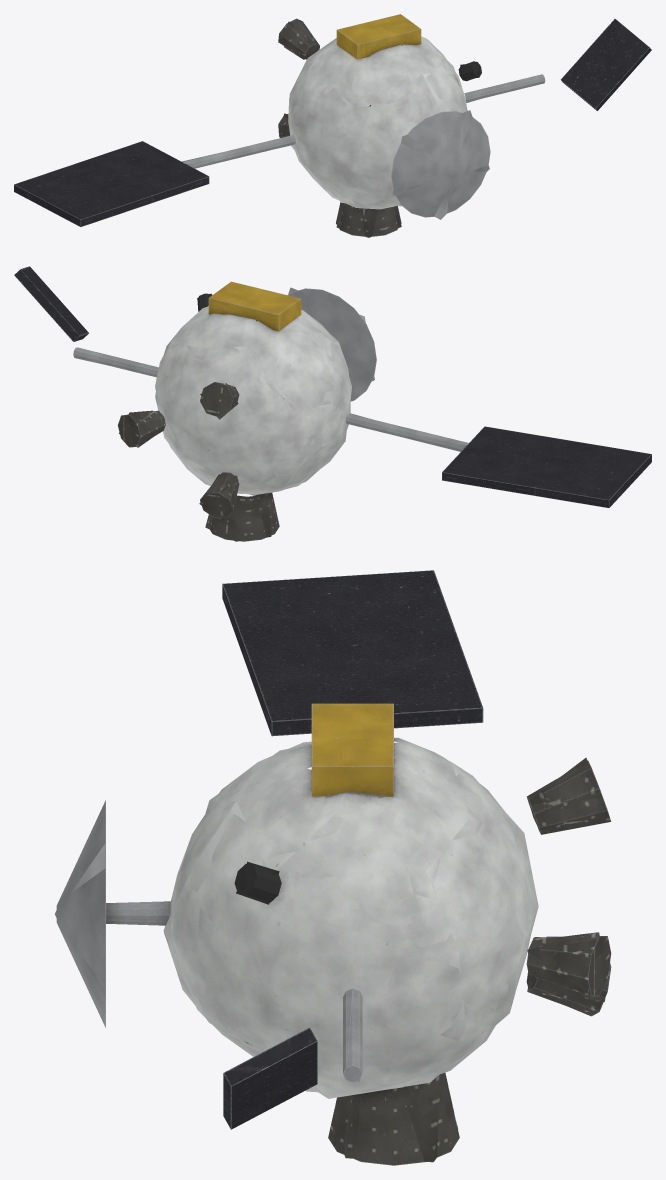
The model's file is sd_prop_probe.glb.
The picture shows the model from 3 angles, top to bottom: view 1: azimuth 30°, elevation 25°; view 2: azimuth 150°, elevation 25°; view 3: azimuth 270°, elevation 25°; orthographic projection. The views are drawn at different scales.
Visible parts, largest first — view 1: LOD0_body, LOD1_body; view 2: LOD0_body, LOD1_body; view 3: LOD0_body, LOD1_body.
Boxes of the visible parts, <box> form: LOD0_body: <box>14,14,651,236</box>; LOD1_body: <box>181,21,651,237</box>; LOD0_body: <box>14,266,651,541</box>; LOD1_body: <box>74,287,466,541</box>; LOD0_body: <box>56,570,611,1165</box>; LOD1_body: <box>55,742,607,1162</box>.
Size of the model in its own units: 2.44 by 0.8011 by 1.
Materials: 1 (1 with a texture image).
